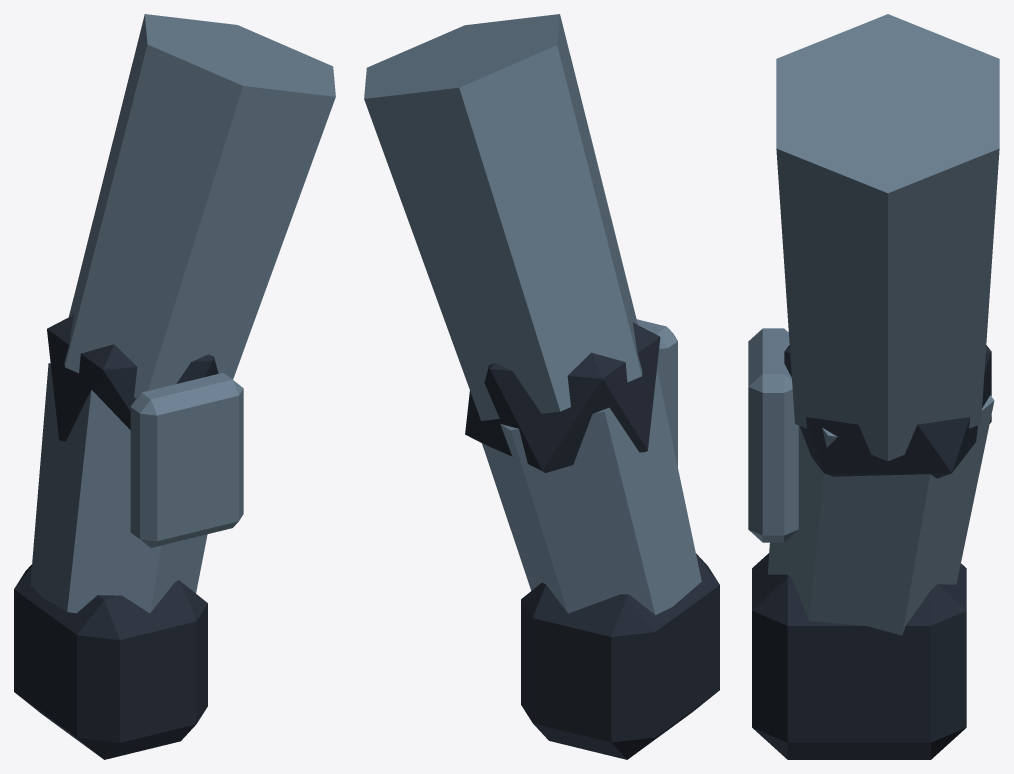
Rendered from SM_NPC_ArmR_002_Armor.glb.
The picture shows the model from 3 angles, left to right: view 1: azimuth 30°, elevation 25°; view 2: azimuth 150°, elevation 25°; view 3: azimuth 270°, elevation 25°; orthographic projection. The views are drawn at different scales.
Parts seen in each view (by area): view 1: SM_NPC_ArmR_002_Armor; view 2: SM_NPC_ArmR_002_Armor; view 3: SM_NPC_ArmR_002_Armor.
Part boxes in pixels (x1,y1,x2,y2): SM_NPC_ArmR_002_Armor: [14, 14, 335, 759]; SM_NPC_ArmR_002_Armor: [364, 14, 719, 759]; SM_NPC_ArmR_002_Armor: [748, 14, 999, 759].
Bounding box in the file's own units: 0.275 × 0.5794 × 0.1754.
